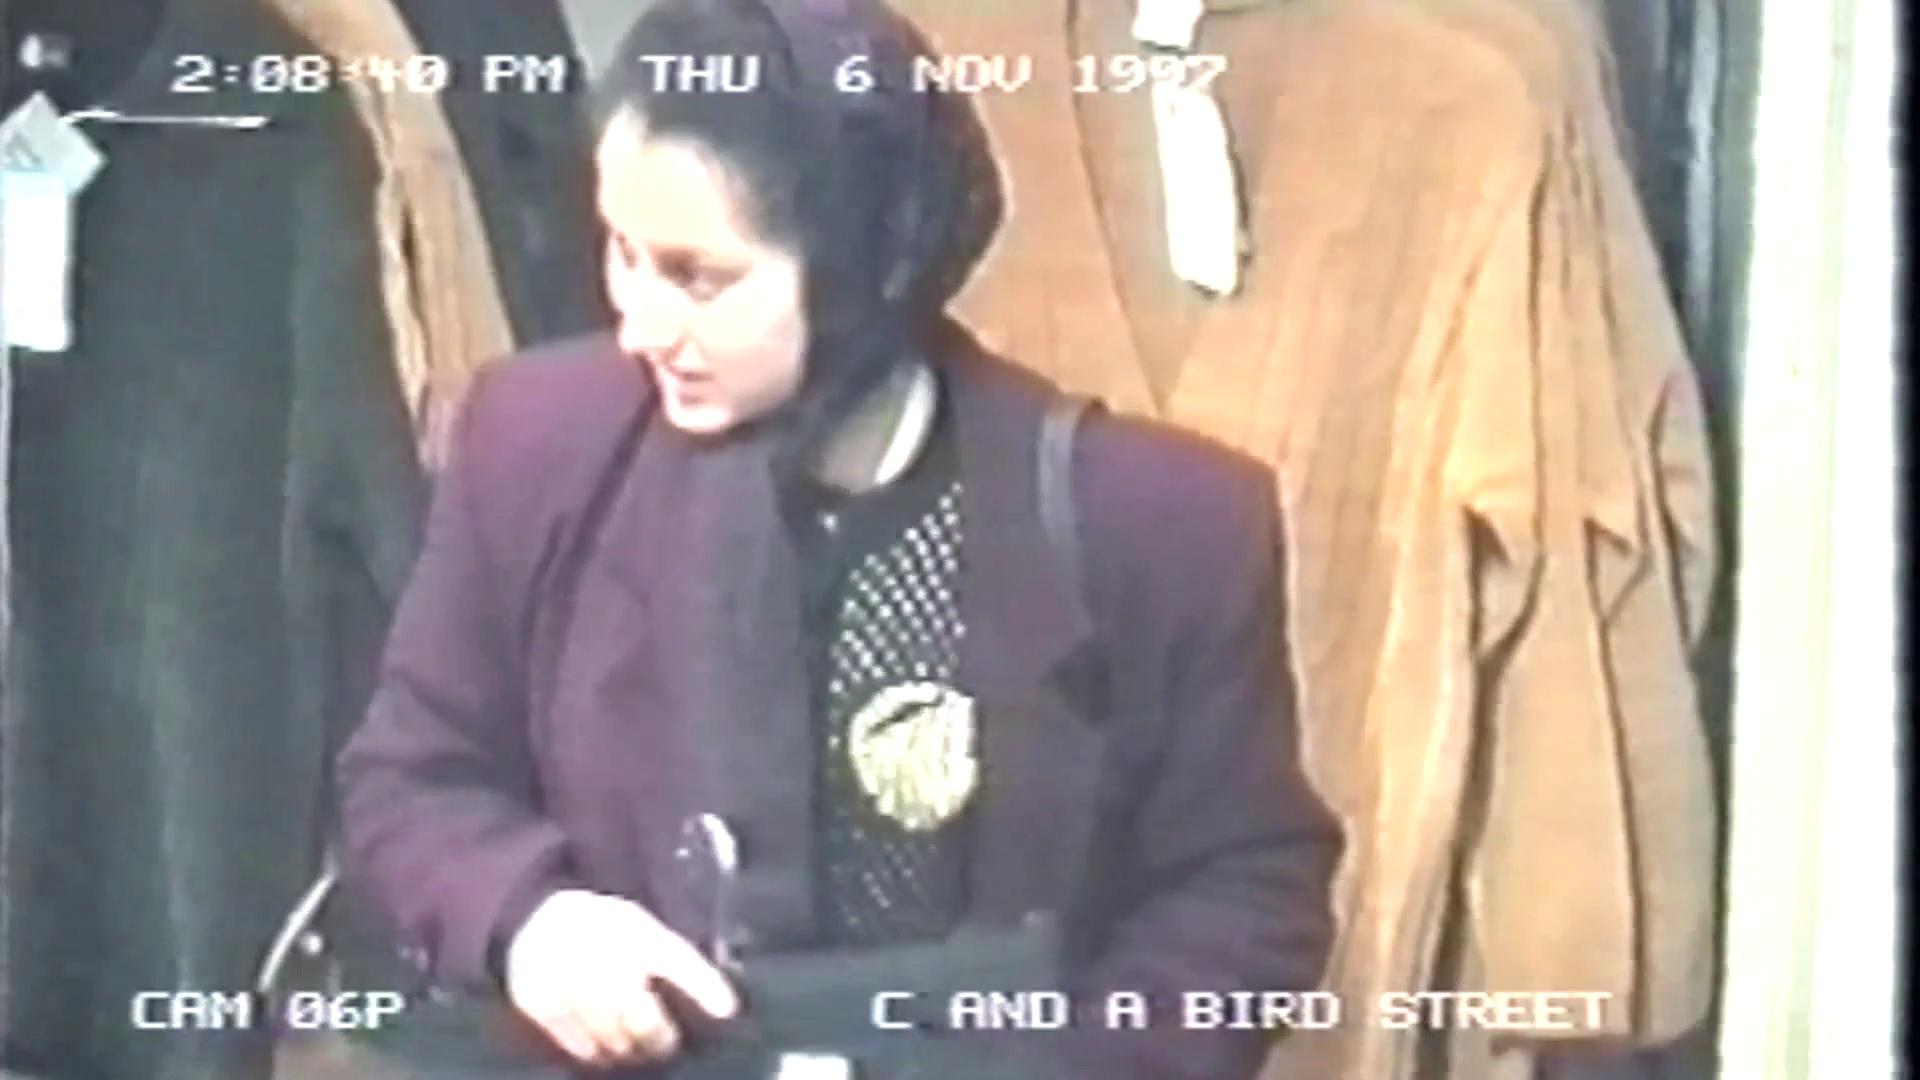Product: (451, 870, 1089, 1080)
Product-Picked: (343, 5, 1416, 1080)
